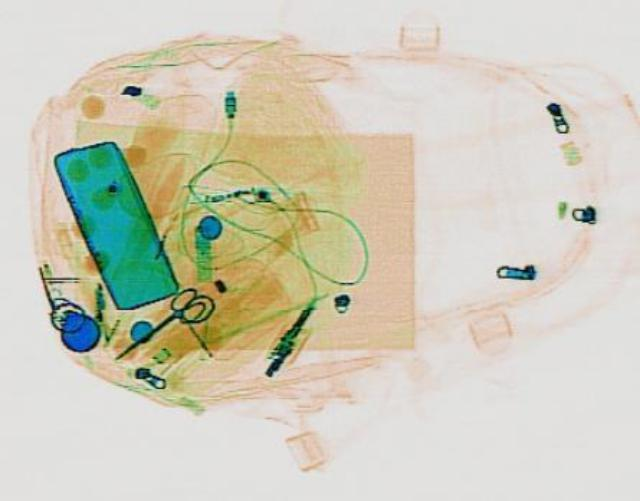Scissors: (98, 280, 220, 370)
